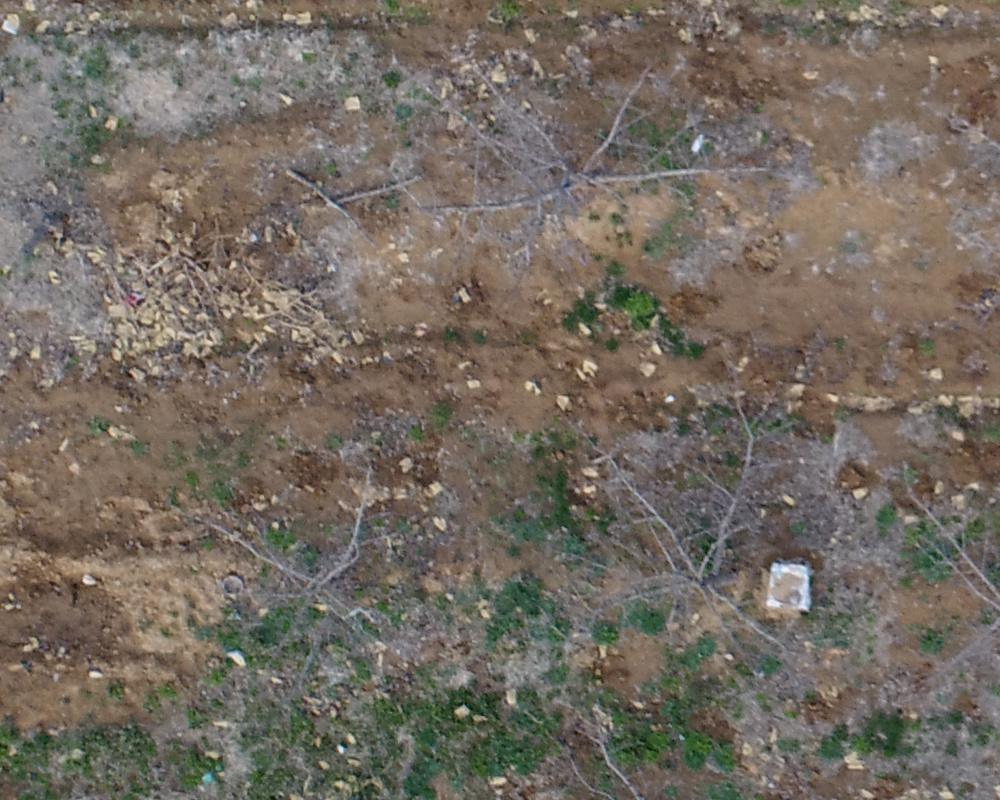apple: (427, 41, 785, 285), (571, 387, 837, 656), (218, 475, 415, 649), (872, 450, 990, 700)
